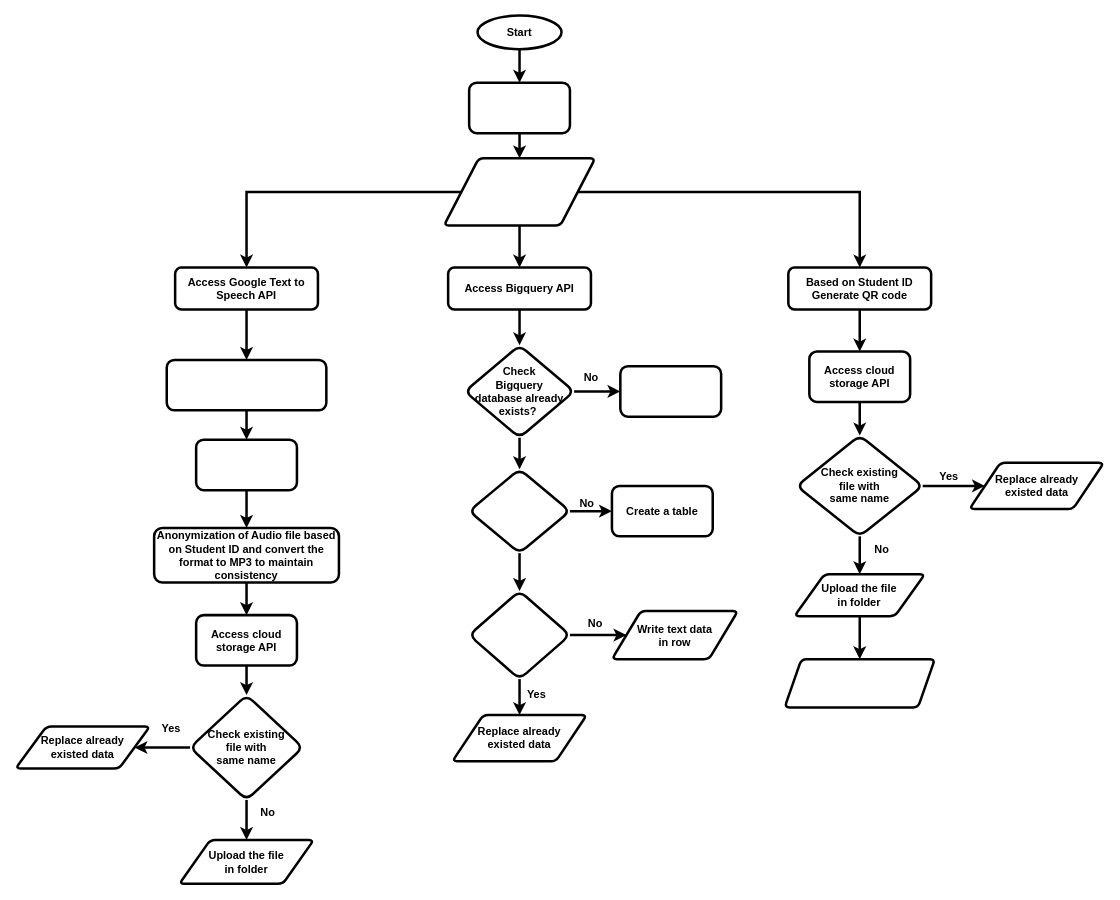
This 1120x900 diagram has some shape labels left out. The centre of each missing label's shape, as x and y in pixels:
Check Bigquery table already exists?: point (519, 510)
Check Student ID data already exists?: point (519, 634)
Create a database: point (670, 391)
Generate AI based audio file based on language: point (246, 384)
Get the data from user and store it in variables: point (519, 191)
Normalization of the Audio: point (246, 464)
Render GUI form using PySimpleGUI: point (519, 107)
Send the QR code to students mentioned Email Address: point (859, 682)
